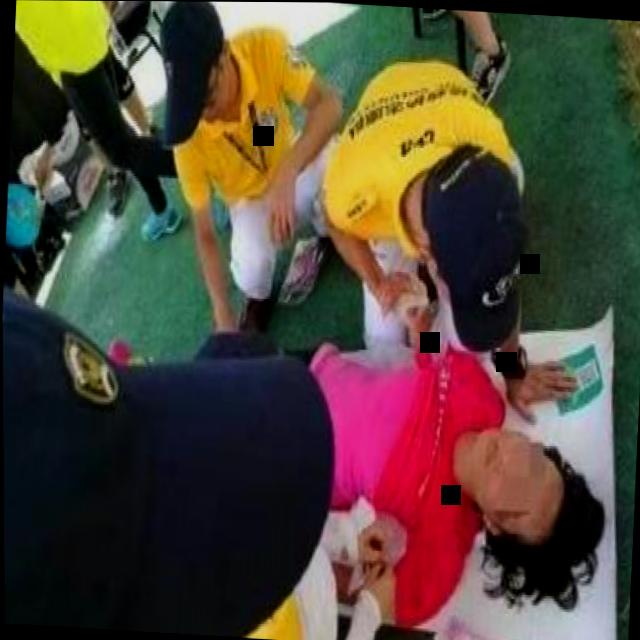Fall-Detected: (203, 293, 622, 634)
